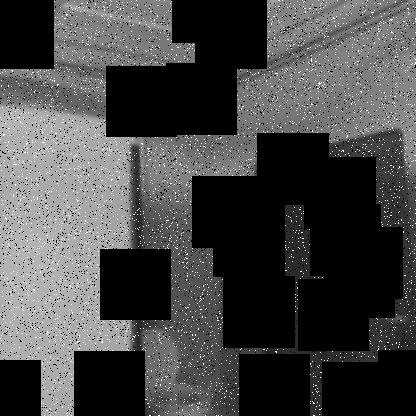Porte: (129, 126, 415, 415)
